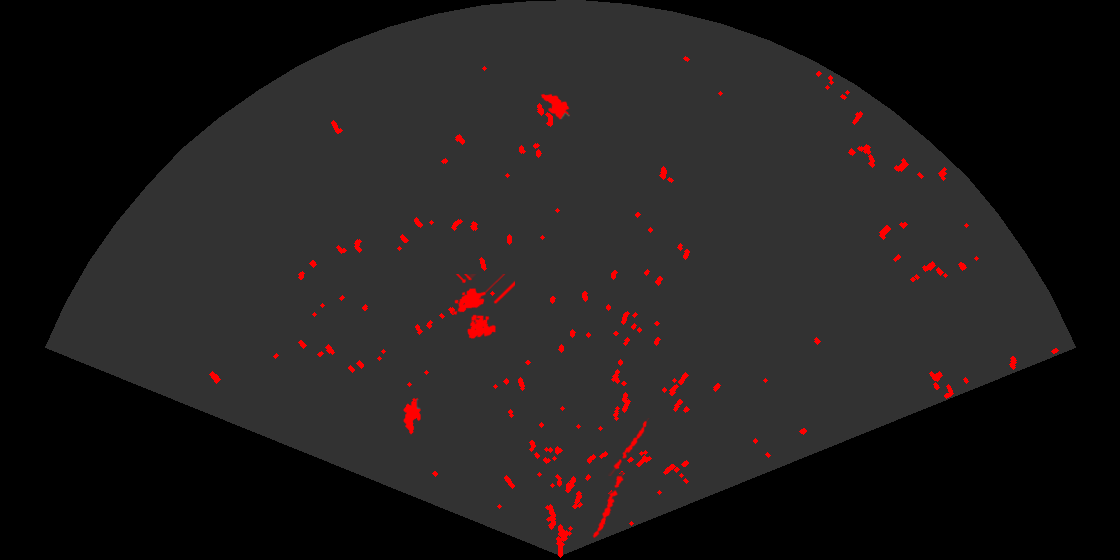AUV: (539, 92, 572, 121), (402, 396, 422, 436)
cage: (452, 274, 515, 340)
chain: (608, 418, 651, 476), (591, 472, 625, 540)
